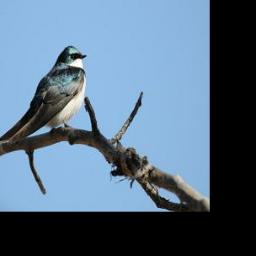Swallow: (0, 43, 88, 145)
